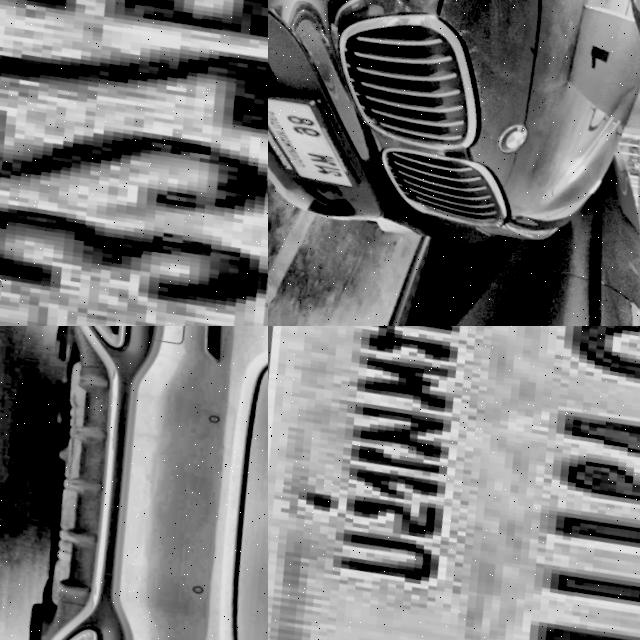license-plate: (268, 326, 640, 640), (0, 0, 268, 326), (268, 83, 364, 197)
